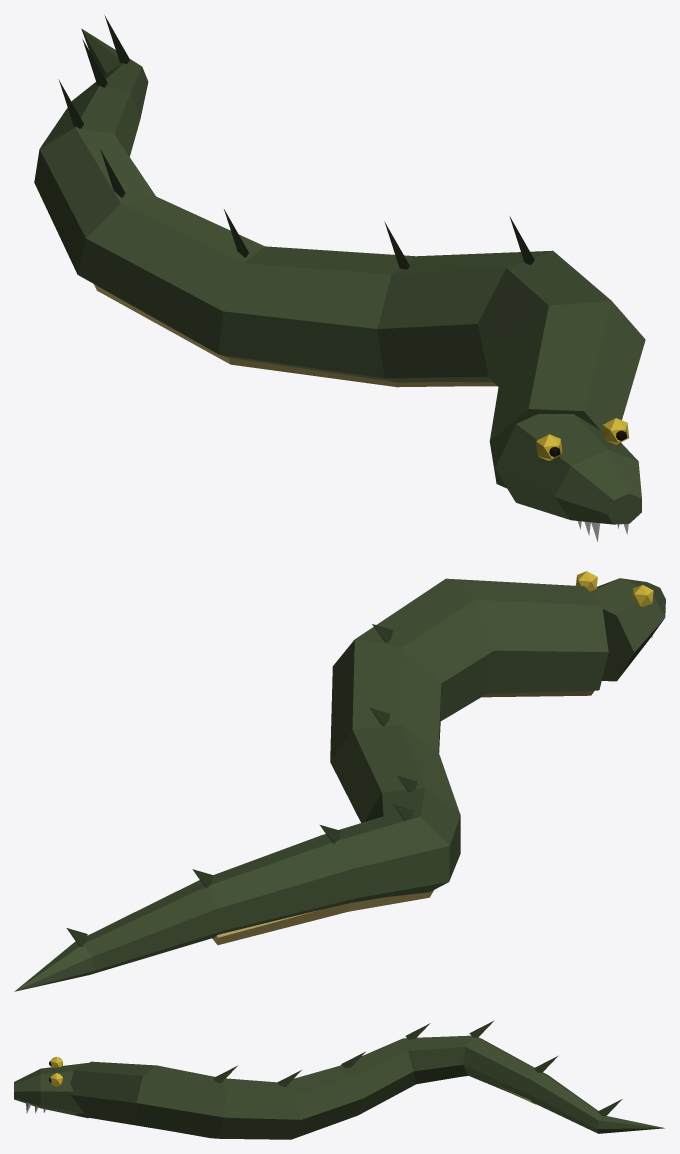
Rendered from beast_giant_eel.glb.
3 renders of one model, top to bottom at view 1: azimuth 30°, elevation 25°; view 2: azimuth 150°, elevation 25°; view 3: azimuth 270°, elevation 25°, orthographic. The views are drawn at different scales.
Visible parts, largest first — view 1: beast_giant_eel; view 2: beast_giant_eel; view 3: beast_giant_eel.
Boxes of the visible parts, x1=… form: beast_giant_eel: x1=34, y1=15, x2=645, y2=541; beast_giant_eel: x1=14, y1=571, x2=665, y2=991; beast_giant_eel: x1=14, y1=1020, x2=664, y2=1139.
Size of the model in its own units: 1.74 by 0.935 by 6.1.
